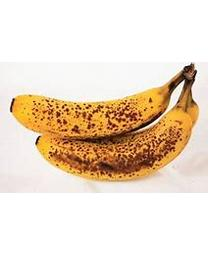banana: (14, 63, 199, 180)
